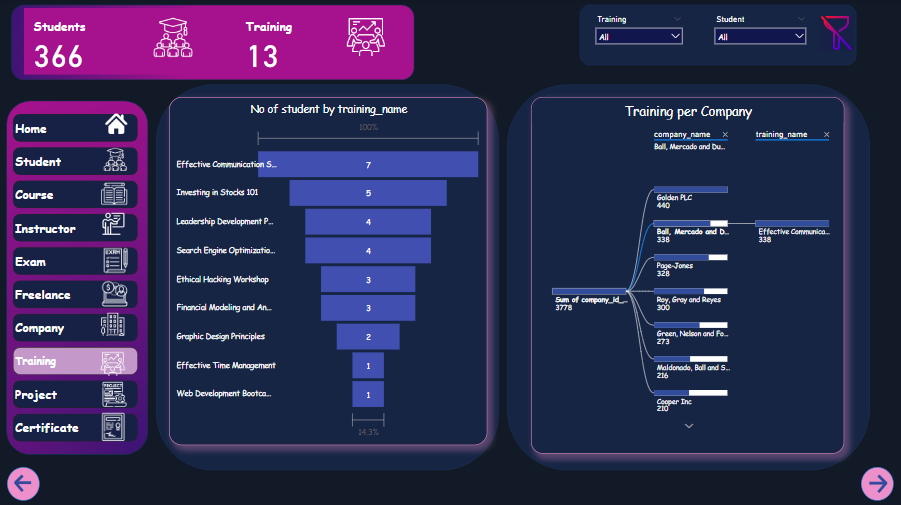

This screenshot's page, from the dashboard's own definition file:
{"tool":"powerbi","page":{"name":"Training","canvas":[1600,900],"ordinal":18},"visuals":[{"type":"funnel","title":"No of student by training_name","fields":{"Y":["Count(Fact_table.student_id_fk)"],"Category":["Dim_Hiring.training_name"]},"box":[305,174,563.8,617.4],"z":0},{"type":"decompositionTreeVisual","title":"Training per Company","fields":{"ExplainBy":["Dim_Hiring.company_name","Dim_Hiring.training_name"],"Analyze":["Sum(Dim_Hiring.company_id_bk)"]},"box":[946.1,174,554.9,632.2],"z":1000},{"type":"cardVisual","fields":{"Data":["CountNonNull(Dim_Student.st_id_sk)"]},"box":[47.1,16.3,317,117.7],"z":2000},{"type":"cardVisual","fields":{"Data":["Count(Dim_Hiring.training_id_bk)"]},"box":[423.8,16.3,282.6,117.7],"z":3000},{"type":"slicer","fields":{"Values":["Dim_Hiring.training_name"]},"box":[1050.6,23,173.6,69.1],"z":4000},{"type":"slicer","fields":{"Values":["Dim_Student.st_fname"]},"box":[1261.4,23,182.5,69.1],"z":5000},{"type":"actionButton","box":[1458.1,28.3,58.5,63.8],"z":6000},{"type":"pageNavigator","box":[28.3,203.7,221.5,586.4],"z":7000},{"type":"image","box":[172.1,197.4,79.7,48.9],"z":8000},{"type":"image","box":[170.3,259,79.7,50.7],"z":9000},{"type":"image","box":[172.1,373.1,68.8,48.9],"z":10000},{"type":"image","box":[177.5,432.9,65.2,61.6],"z":11000},{"type":"image","box":[164.8,317,85.1,56.2],"z":12000},{"type":"image","box":[173.9,494.5,70.6,56.2],"z":13000},{"type":"image","box":[173.9,550.6,63.4,50.7],"z":14000},{"type":"image","box":[170.3,619.5,70.6,54.3],"z":15000},{"type":"image","box":[155.8,728.2,99.6,59.8],"z":16000},{"type":"image","box":[168.5,673.8,79.7,54.3],"z":17000},{"type":"group","id":"g1","title":"Group 1","box":[1530.6,829.6,58,59.8],"z":18000},{"type":"group","id":"g2","title":"Group 2","box":[18.1,829.6,61.6,59.8],"z":19000},{"type":"shape","box":[1530.6,829.6,58,59.8],"z":19000,"group":"g1"},{"type":"actionButton","box":[1539.7,838.7,48.9,41.7],"z":20000,"group":"g1"},{"type":"shape","box":[18.1,829.6,58,59.8],"z":20500,"group":"g2"},{"type":"actionButton","box":[27.2,838.7,52.5,39.8],"z":21000,"group":"g2"}]}

Visuals, with their boxes in screenshot pixels (x1, y1, x2, y2), scaled from the page's 1600x900 canvas onto the 901x505 screenshot:
"No of student by training_name" funnel: {"x1": 172, "y1": 98, "x2": 489, "y2": 444}
"Training per Company" decompositionTreeVisual: {"x1": 533, "y1": 98, "x2": 845, "y2": 452}
cardVisual - CountNonNull(Dim_Student.st_id_sk): {"x1": 27, "y1": 9, "x2": 205, "y2": 75}
cardVisual - Count(Dim_Hiring.training_id_bk): {"x1": 239, "y1": 9, "x2": 398, "y2": 75}
slicer - Dim_Hiring.training_name: {"x1": 592, "y1": 13, "x2": 689, "y2": 52}
slicer - Dim_Student.st_fname: {"x1": 710, "y1": 13, "x2": 813, "y2": 52}
actionButton: {"x1": 821, "y1": 16, "x2": 854, "y2": 52}
pageNavigator: {"x1": 16, "y1": 114, "x2": 141, "y2": 443}
image: {"x1": 97, "y1": 111, "x2": 142, "y2": 138}
image: {"x1": 96, "y1": 145, "x2": 141, "y2": 174}
image: {"x1": 97, "y1": 209, "x2": 136, "y2": 237}
image: {"x1": 100, "y1": 243, "x2": 137, "y2": 277}
image: {"x1": 93, "y1": 178, "x2": 141, "y2": 209}
image: {"x1": 98, "y1": 277, "x2": 138, "y2": 309}
image: {"x1": 98, "y1": 309, "x2": 134, "y2": 337}
image: {"x1": 96, "y1": 348, "x2": 136, "y2": 378}
image: {"x1": 88, "y1": 409, "x2": 144, "y2": 442}
image: {"x1": 95, "y1": 378, "x2": 140, "y2": 409}
"Group 1" group: {"x1": 862, "y1": 465, "x2": 895, "y2": 499}
"Group 2" group: {"x1": 10, "y1": 465, "x2": 45, "y2": 499}
shape: {"x1": 862, "y1": 465, "x2": 895, "y2": 499}
actionButton: {"x1": 867, "y1": 471, "x2": 895, "y2": 494}
shape: {"x1": 10, "y1": 465, "x2": 43, "y2": 499}
actionButton: {"x1": 15, "y1": 471, "x2": 45, "y2": 493}
